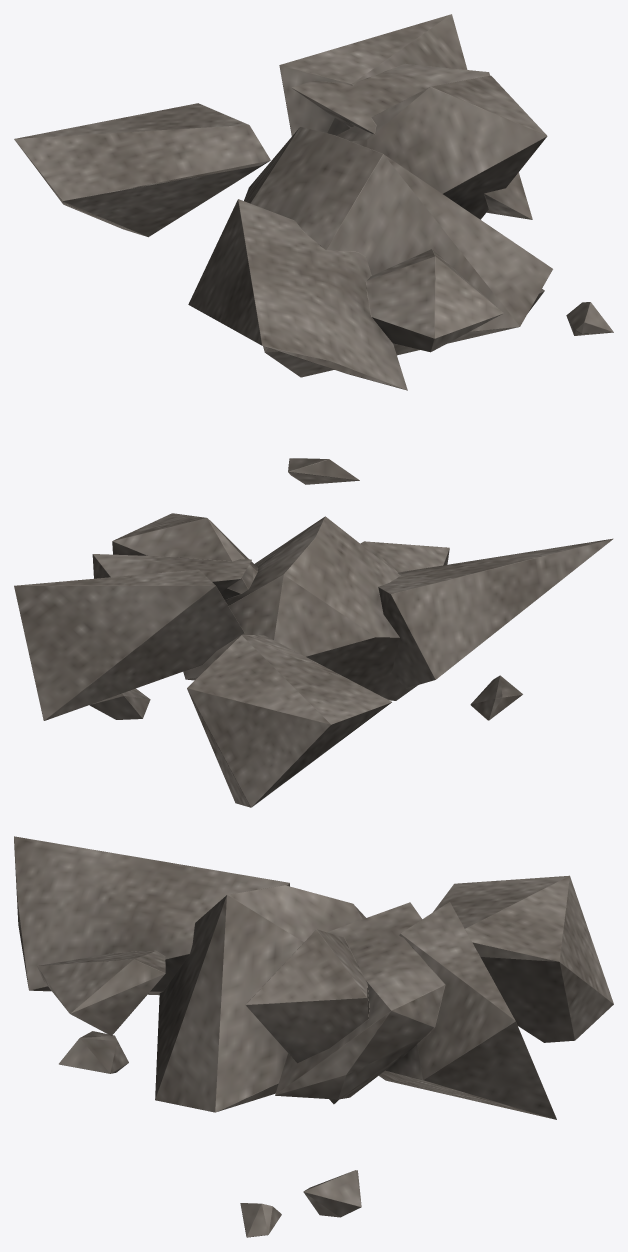
Rendered from boulder_27.glb.
3 views of the same model, one above another, from view 1: azimuth 30°, elevation 25°; view 2: azimuth 150°, elevation 25°; view 3: azimuth 270°, elevation 25° (orthographic). The views are drawn at different scales.
Visible parts, largest first — view 1: boulder_27_c0; view 2: boulder_27_c0; view 3: boulder_27_c0.
Part boxes in pixels (x1=…): boulder_27_c0: x1=14, y1=14, x2=613, y2=484; boulder_27_c0: x1=14, y1=513, x2=613, y2=807; boulder_27_c0: x1=14, y1=836, x2=613, y2=1237.
Size of the model in its own units: 1.85 by 0.9839 by 2.14.
1 material, 1 textured.
